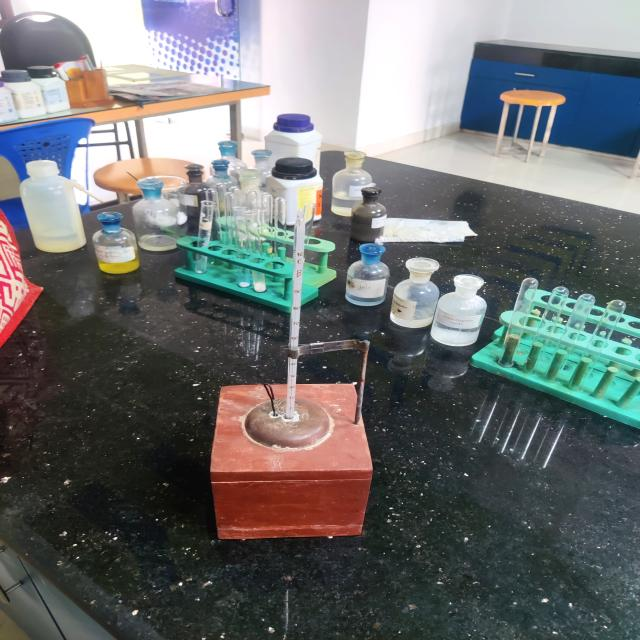Calorimeter: (198, 209, 396, 569)
